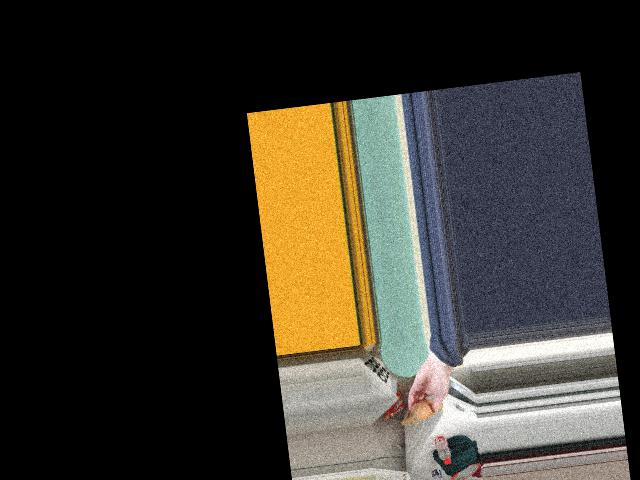sweet_potato: (410, 399, 439, 421)
